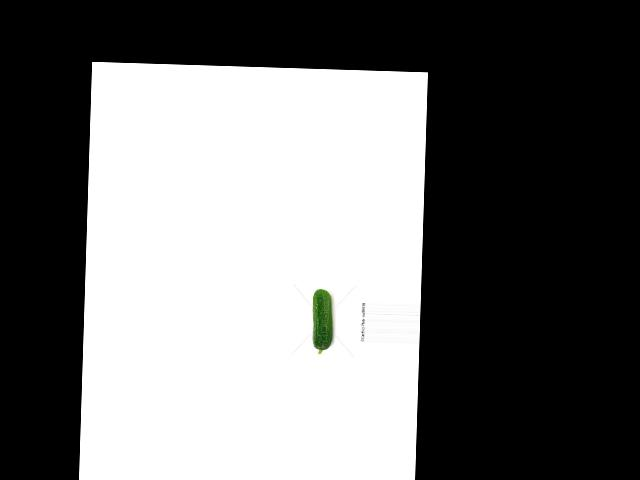cucumber: (311, 288, 333, 354)
